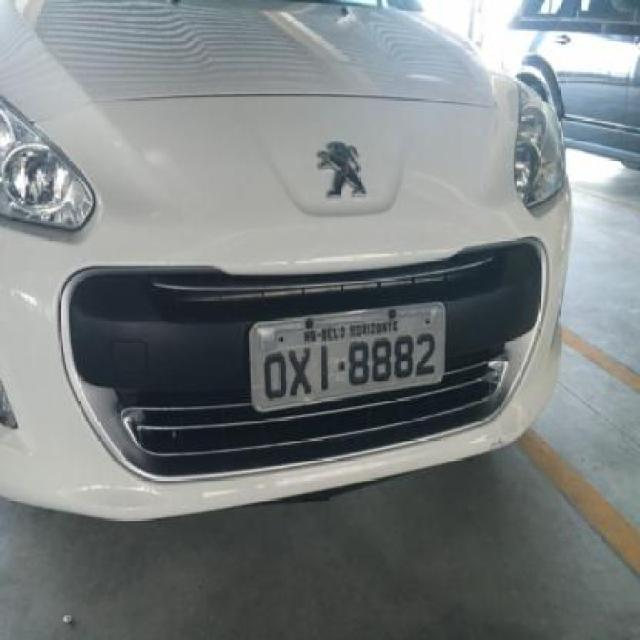old_plate: (241, 293, 453, 418)
